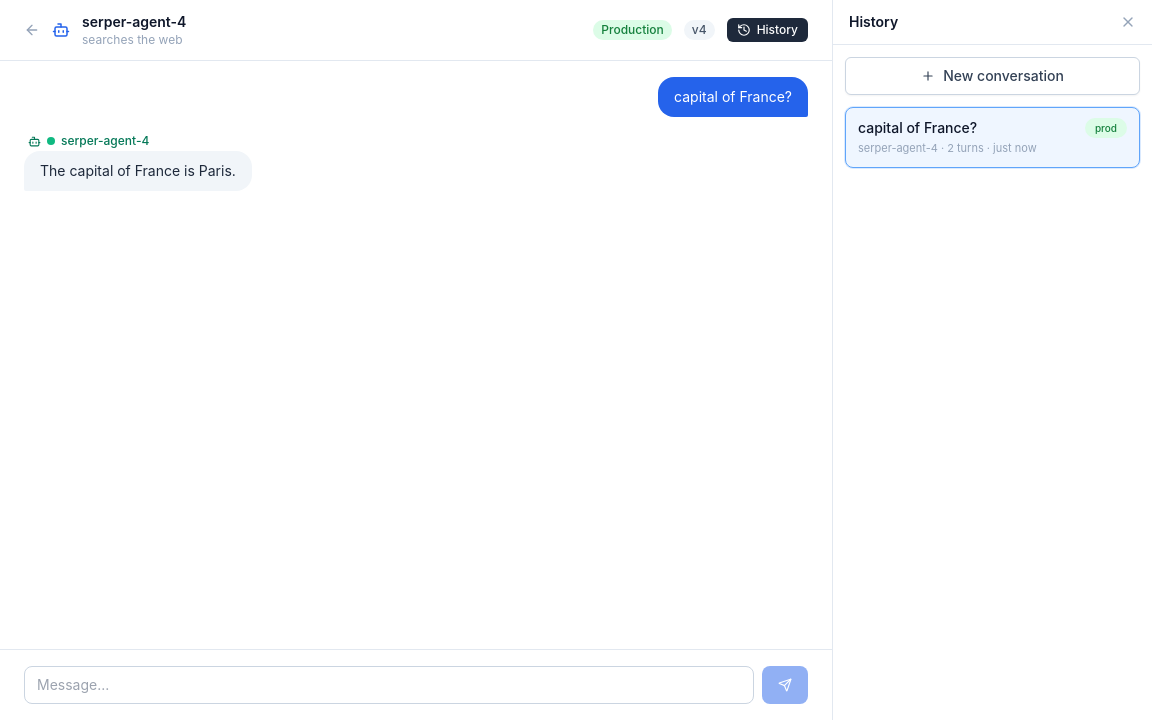
Scenario: CatalogChatPage — docked History + resumable session (POC-5) › clears the transcript and starts fresh on New conversation
Expected: the text "The capital of France is Paris." is shown, [24, 151, 252, 191]
History dock is open by default → hit New conversation → transcript resets.
Click the button "New conversation" at (992, 76), box [845, 57, 1140, 95]
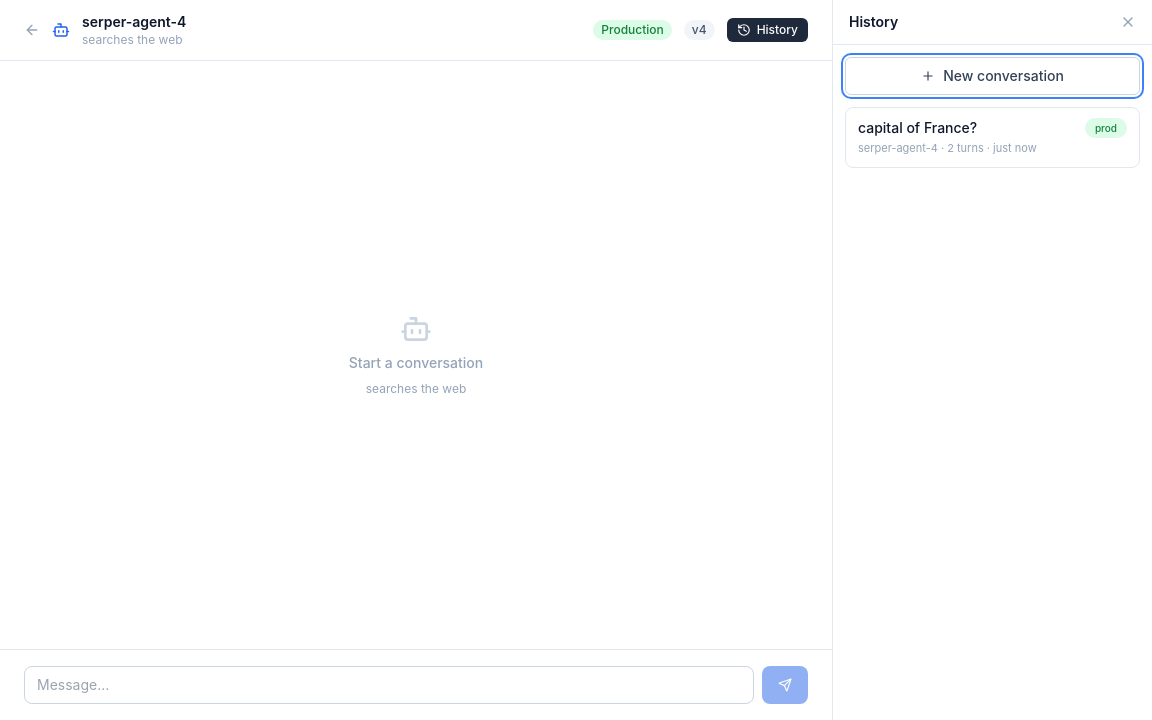
Expected: the text "The capital of France is Paris." is gone
Expected: the text "Start a conversation" is shown, [349, 353, 483, 373]
